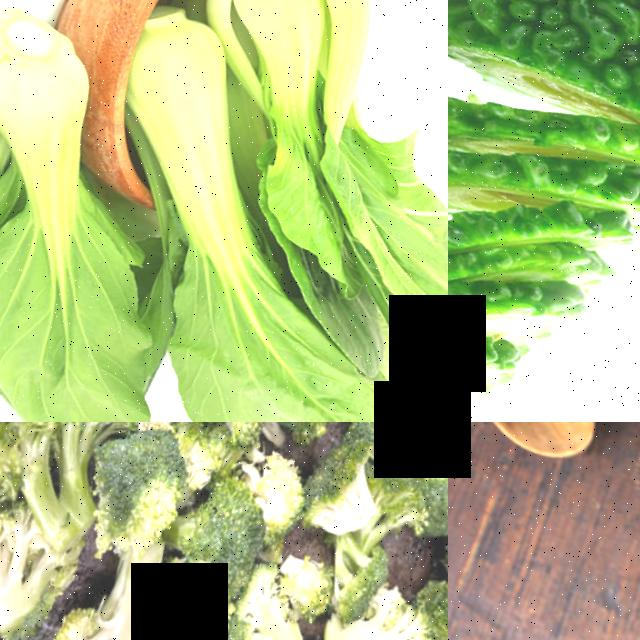bitter gourd: (448, 50, 595, 422), (448, 0, 640, 155)
bok choy: (0, 122, 188, 422), (221, 0, 448, 229)
broccoli: (71, 422, 218, 574), (143, 496, 278, 640), (290, 422, 398, 555), (0, 497, 88, 640), (0, 422, 131, 515), (60, 556, 170, 640), (414, 506, 448, 640)
